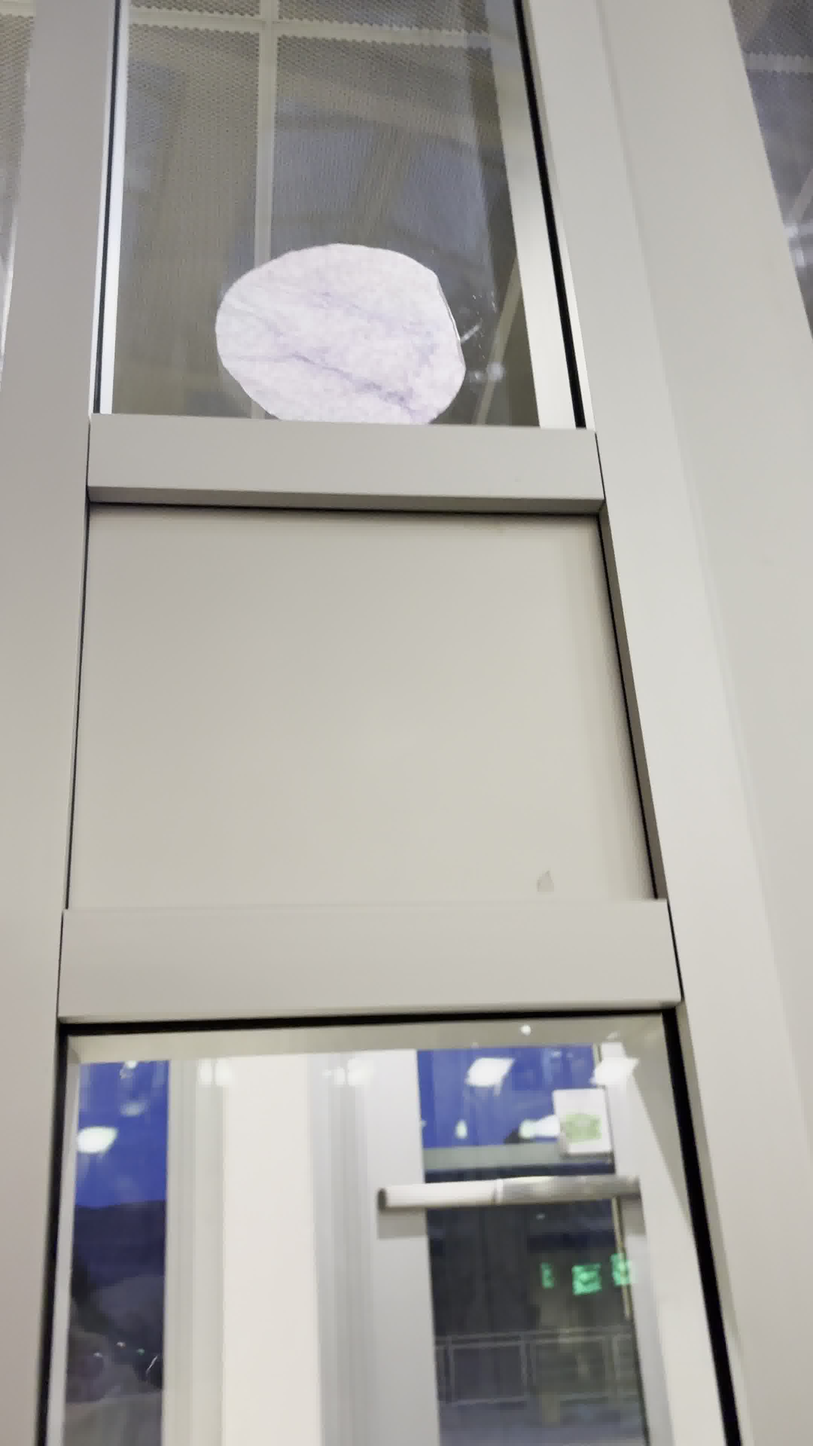Target: (209, 240, 471, 435)
